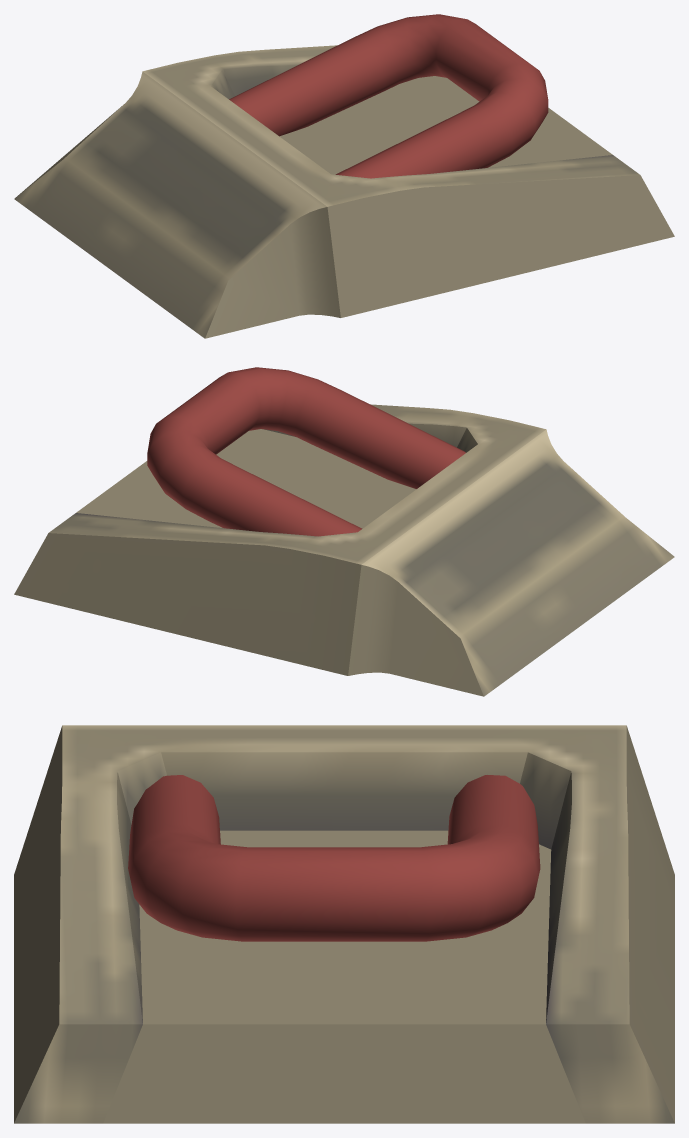
Rendered from ClampOnPeg.gltf.
The picture shows the model from 3 angles, top to bottom: view 1: azimuth 30°, elevation 25°; view 2: azimuth 150°, elevation 25°; view 3: azimuth 270°, elevation 25°; orthographic projection. The views are drawn at different scales.
Visible parts, largest first — view 1: Prop_Clamp; view 2: Prop_Clamp; view 3: Prop_Clamp.
Boxes of the visible parts, x1,y1,x2,y2 form: Prop_Clamp: (14,14,674,338); Prop_Clamp: (14,367,674,696); Prop_Clamp: (14,725,674,1123).
Bounding box in the file's own units: 0.5605 × 0.1617 × 0.4602.
Materials: 2 (2 with a texture image).
